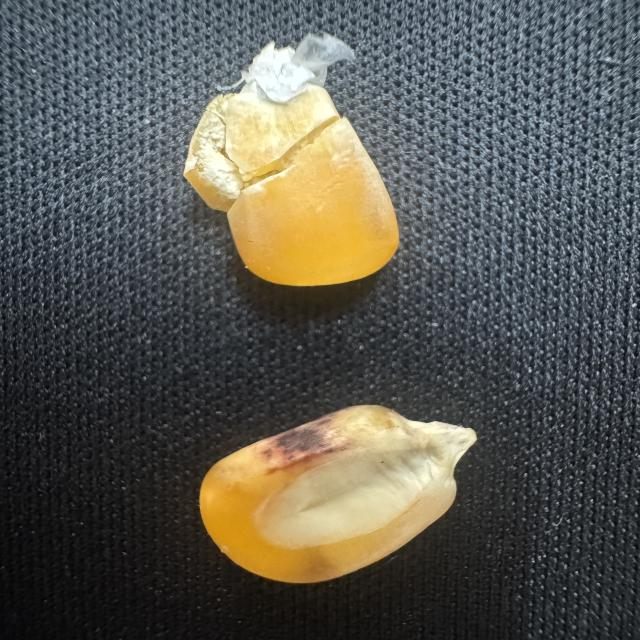Bad-Seed: (176, 26, 407, 292), (194, 398, 480, 590)
